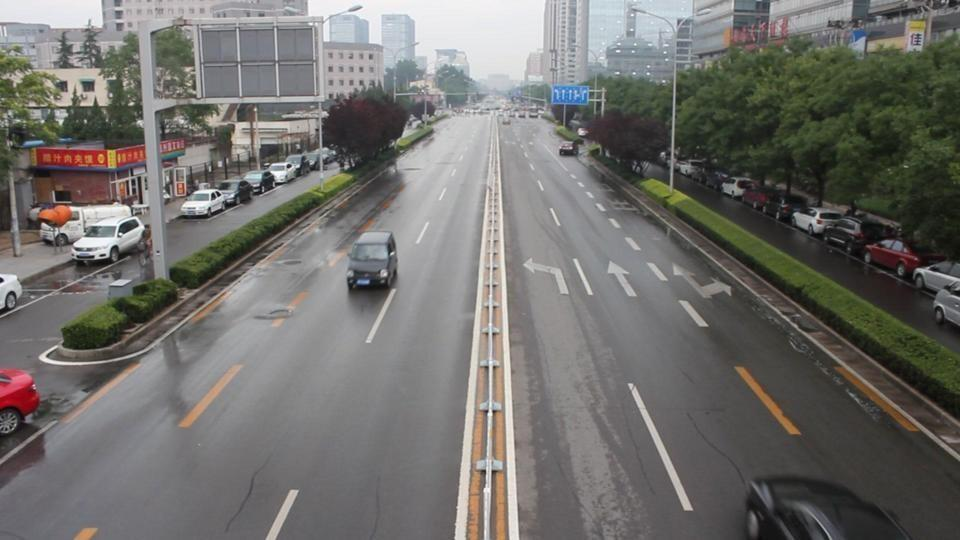car: (742, 474, 914, 539), (68, 216, 147, 267), (864, 237, 949, 284), (823, 213, 902, 260), (346, 231, 399, 290), (0, 368, 42, 437), (38, 208, 81, 247), (791, 208, 846, 238), (913, 261, 960, 296), (180, 189, 227, 218), (932, 281, 960, 329), (764, 194, 810, 223), (213, 178, 252, 207), (29, 203, 75, 227), (0, 273, 24, 313), (241, 170, 277, 195), (739, 184, 771, 210), (720, 178, 752, 199), (267, 162, 296, 184), (285, 152, 309, 178), (559, 142, 575, 156)
